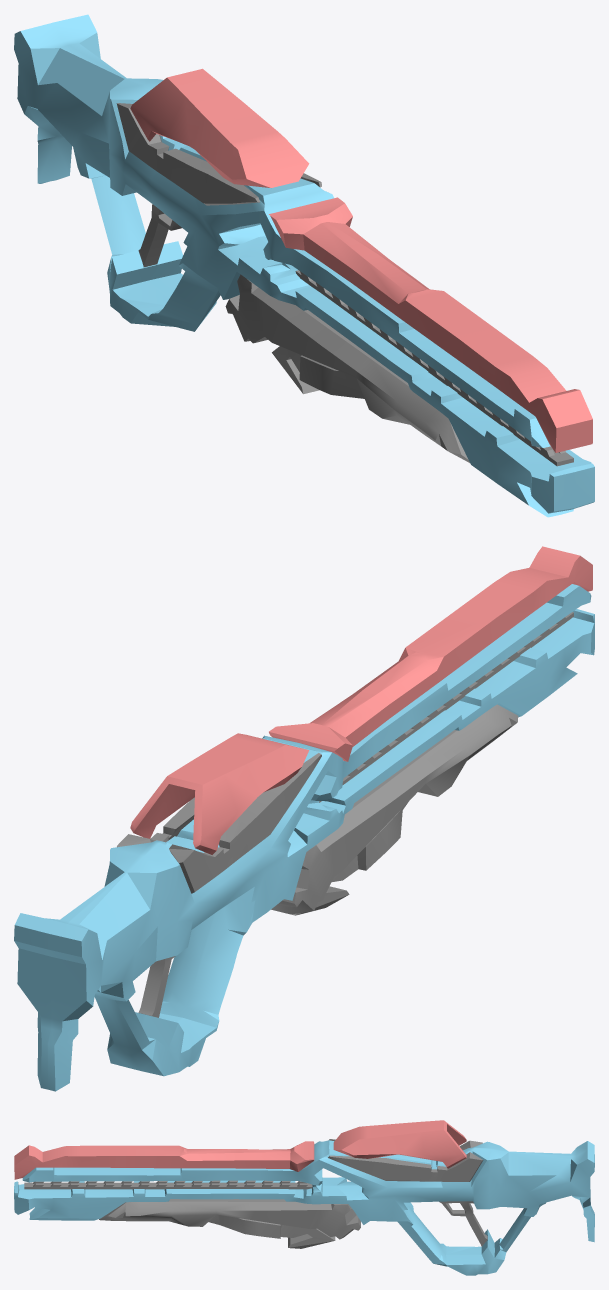
File: gun.FBX
3 renders of one model, top to bottom at view 1: azimuth 30°, elevation 25°; view 2: azimuth 150°, elevation 25°; view 3: azimuth 270°, elevation 25°, orthographic. The views are drawn at different scales.
Parts seen in each view (by area): view 1: RetopoGroup1, RetopoGroup005, RetopoGroup006, RetopoGroup2, RetopoGroup004, Box001, RetopoGroup003; view 2: RetopoGroup1, RetopoGroup005, RetopoGroup006, RetopoGroup2, RetopoGroup004, Box001, RetopoGroup003; view 3: RetopoGroup1, RetopoGroup005, RetopoGroup006, RetopoGroup2, Box001, RetopoGroup004, RetopoGroup003.
Boxes of the visible parts, left/top/right/bottom form: RetopoGroup1: left=14, top=14, right=594, bottom=517; RetopoGroup005: left=130, top=68, right=592, bottom=452; RetopoGroup006: left=225, top=274, right=469, bottom=462; RetopoGroup2: left=116, top=103, right=321, bottom=205; RetopoGroup004: left=272, top=346, right=364, bottom=398; Box001: left=295, top=270, right=573, bottom=466; RetopoGroup003: left=138, top=204, right=181, bottom=267; RetopoGroup1: left=14, top=584, right=594, bottom=1091; RetopoGroup005: left=130, top=546, right=592, bottom=854; RetopoGroup006: left=271, top=704, right=518, bottom=914; RetopoGroup2: left=117, top=753, right=321, bottom=893; RetopoGroup004: left=291, top=803, right=407, bottom=915; Box001: left=319, top=612, right=573, bottom=802; RetopoGroup003: left=138, top=956, right=175, bottom=1017; RetopoGroup1: left=14, top=1140, right=594, bottom=1275; RetopoGroup005: left=14, top=1120, right=466, bottom=1179; RetopoGroup006: left=99, top=1199, right=360, bottom=1239; RetopoGroup2: left=328, top=1139, right=483, bottom=1181; Box001: left=24, top=1180, right=312, bottom=1189; RetopoGroup004: left=209, top=1214, right=335, bottom=1248; RetopoGroup003: left=439, top=1201, right=487, bottom=1246.
Bounding box in the file's own units: 46.59 × 150 × 557.
